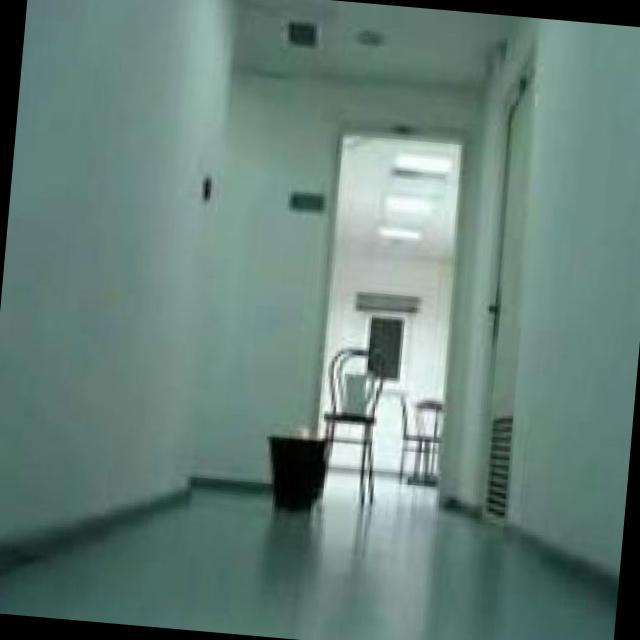Fire: (290, 424, 315, 437)
